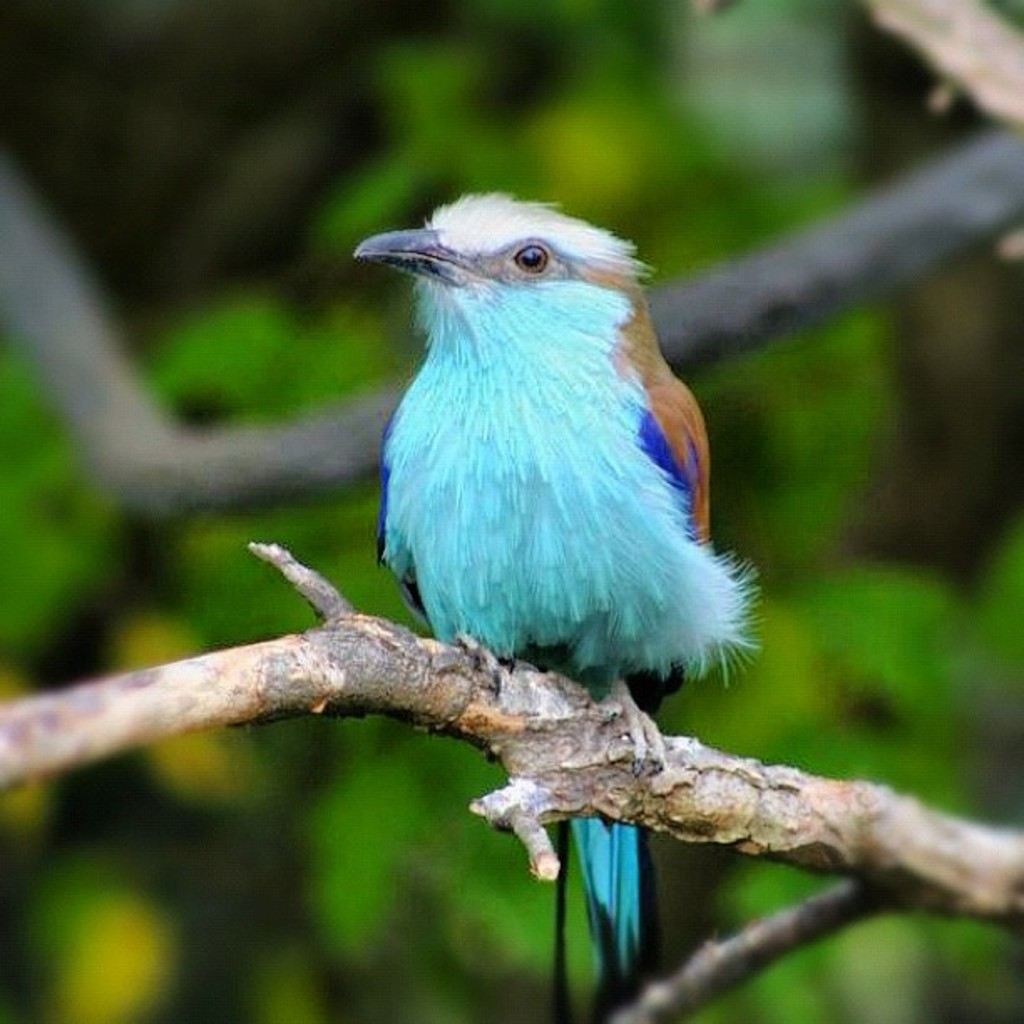Bird: (351, 189, 769, 1024)
